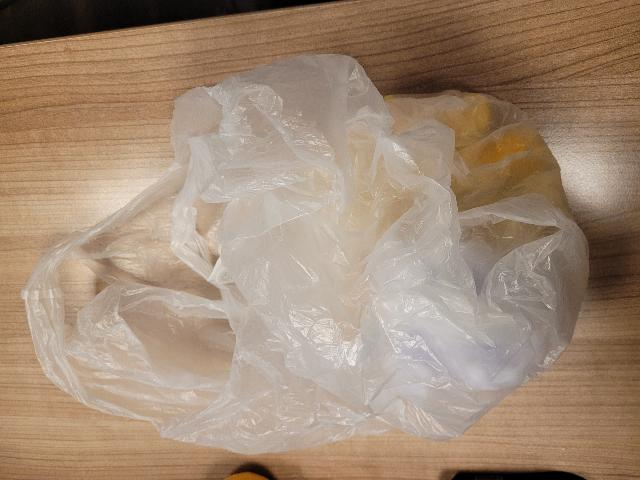Plastik: (25, 51, 592, 458)
